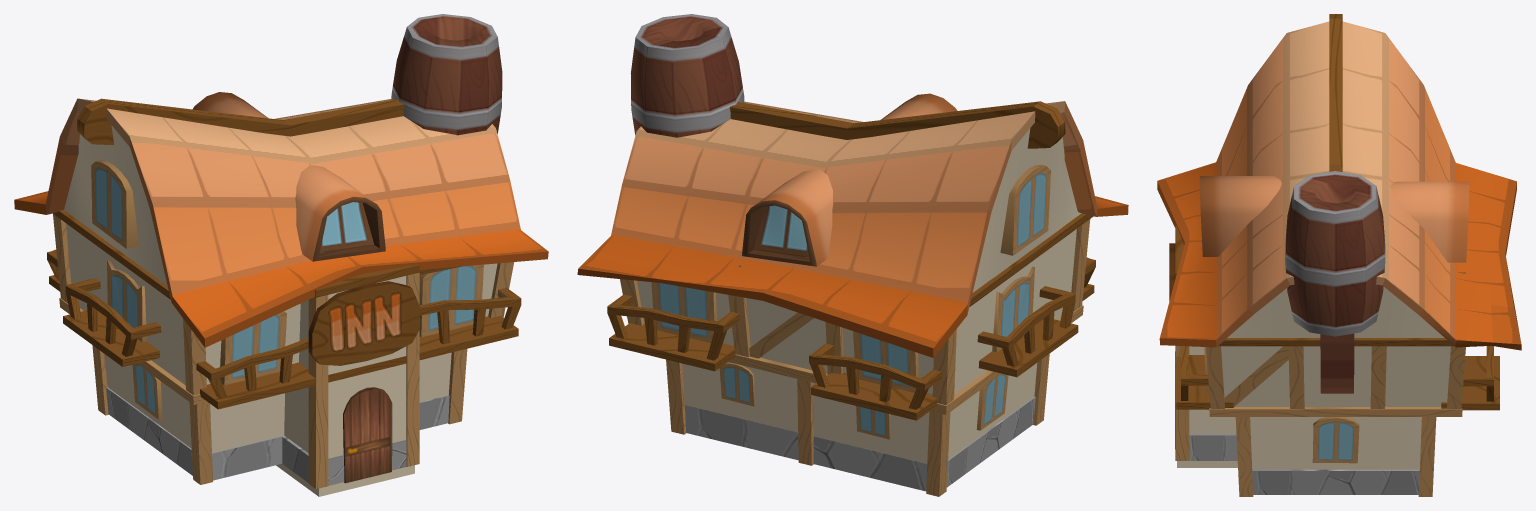
Rendered from building_inn_lv3.FBX.
3 renders of one model, left to right at view 1: azimuth 30°, elevation 25°; view 2: azimuth 150°, elevation 25°; view 3: azimuth 270°, elevation 25°, orthographic. The views are drawn at different scales.
Visible parts, largest first — view 1: building_inn_lv3, building_inn_roof_lv3, building_inn_main_lv3; view 2: building_inn_lv3, building_inn_roof_lv3, building_inn_main_lv3; view 3: building_inn_roof_lv3, building_inn_lv3, building_inn_main_lv3.
Part boxes in pixels (<box>): building_inn_lv3: <box>47,14,521,489</box>; building_inn_roof_lv3: <box>14,98,548,347</box>; building_inn_main_lv3: <box>53,125,497,496</box>; building_inn_lv3: <box>607,14,1095,496</box>; building_inn_roof_lv3: <box>577,101,1128,357</box>; building_inn_main_lv3: <box>637,113,1093,463</box>; building_inn_roof_lv3: <box>1157,21,1521,350</box>; building_inn_lv3: <box>1169,14,1499,496</box>; building_inn_main_lv3: <box>1177,286,1462,469</box>.
Size of the model in its own units: 484 by 408 by 390.
